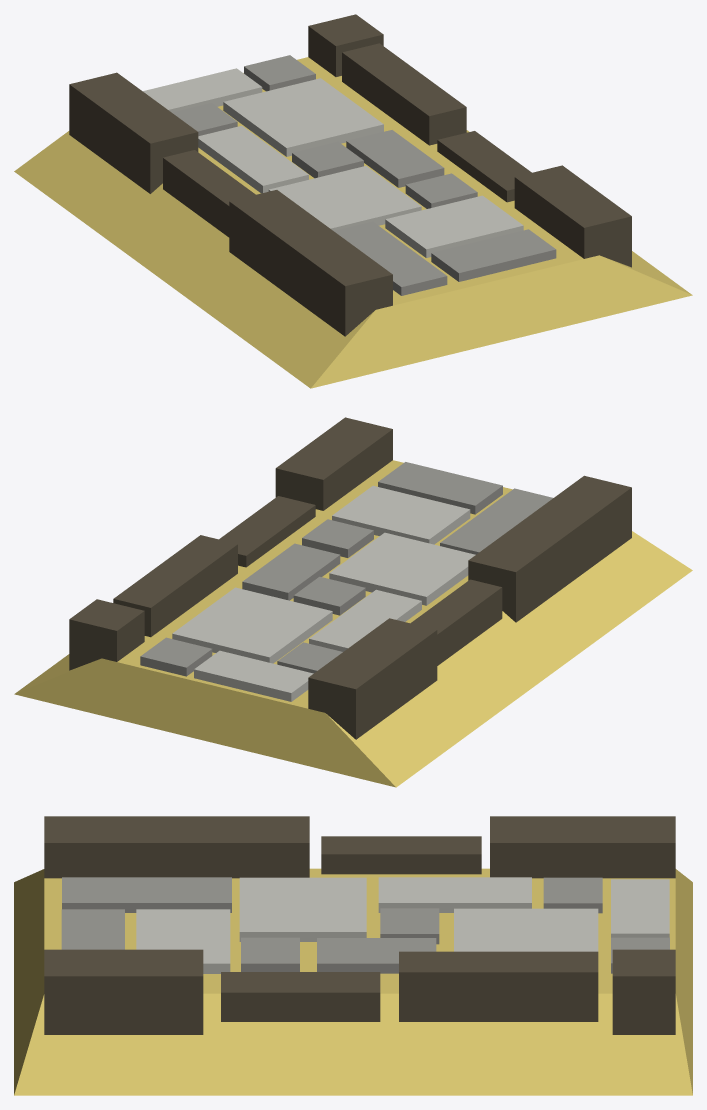
File: stoneroad_straight.fbx
3 renders of one model, top to bottom at view 1: azimuth 30°, elevation 25°; view 2: azimuth 150°, elevation 25°; view 3: azimuth 270°, elevation 25°, orthographic. The views are drawn at different scales.
Visible parts, largest first — view 1: polySurface240; view 2: polySurface240; view 3: polySurface240.
Boxes of the visible parts, x1=… form: polySurface240: x1=14, y1=14, x2=692, y2=388; polySurface240: x1=14, y1=417, x2=692, y2=787; polySurface240: x1=14, y1=816, x2=692, y2=1095.
Size of the model in its own units: 80 by 17.64 by 108.
1 material, 1 textured.
